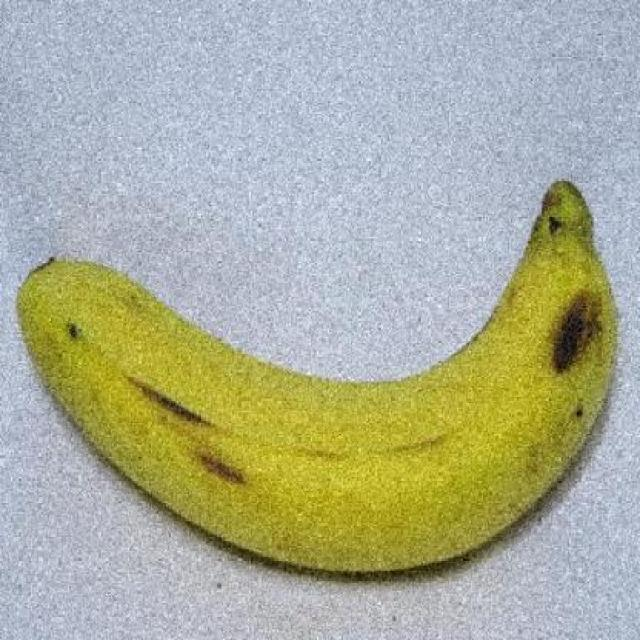ripe: (0, 162, 640, 586)
